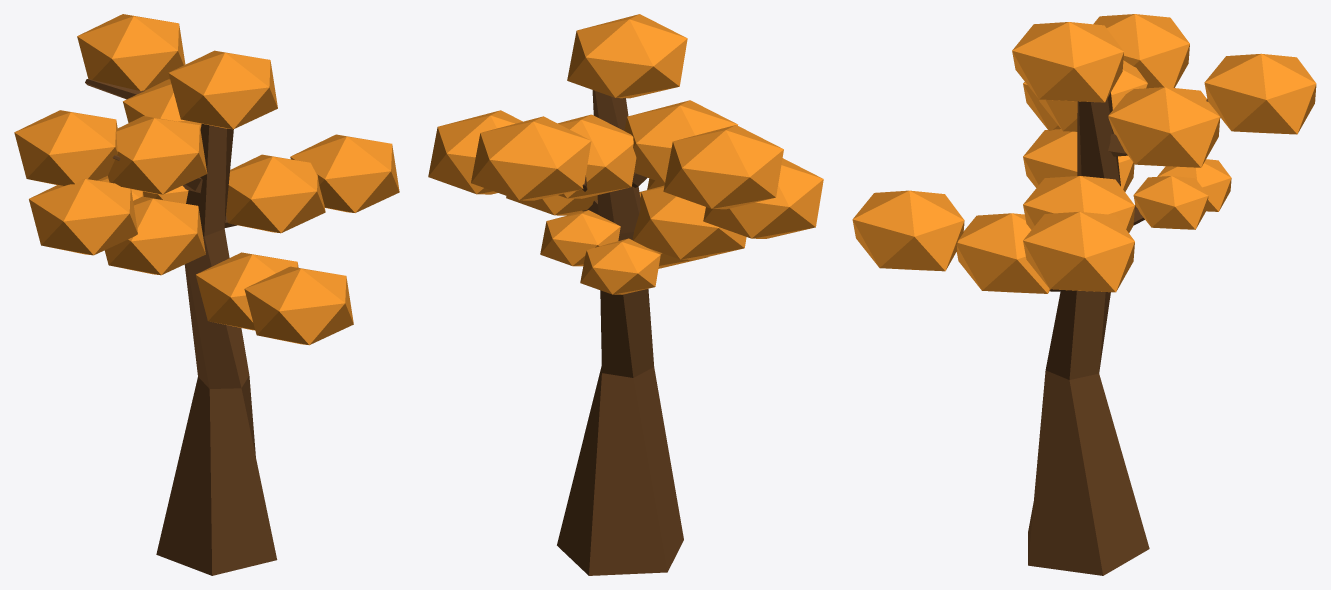
The model's file is tree_orange.fbx.
3 renders of one model, left to right at view 1: azimuth 30°, elevation 25°; view 2: azimuth 150°, elevation 25°; view 3: azimuth 270°, elevation 25°, orthographic. The views are drawn at different scales.
Visible parts, largest first — view 1: Tronc, Icosphere.004, Icosphere, Icosphere.008, Icosphere.003, Icosphere.009, Icosphere.005, Icosphere.010, Icosphere.006, Icosphere.007, Icosphere.001, Icosphere.002 (+1 smaller); view 2: Tronc, Icosphere.009, Icosphere.004, Icosphere.003, Icosphere.007, Icosphere.008, Icosphere.010, Icosphere.002, Icosphere.006, Icosphere.012, Icosphere.011, Icosphere.005; view 3: Tronc, Icosphere.006, Icosphere.003, Icosphere.004, Icosphere, Icosphere.002, Icosphere.001, Icosphere.009, Icosphere.005, Icosphere.011, Icosphere.007, Icosphere.010 (+2 smaller).
Boxes of the visible parts, x1,y1,x2,y2 form: Tronc: (156, 124, 277, 575); Icosphere.004: (168, 50, 277, 129); Icosphere: (244, 266, 353, 345); Icosphere.008: (29, 179, 137, 255); Icosphere.003: (77, 14, 185, 91); Icosphere.009: (14, 110, 117, 185); Icosphere.005: (226, 154, 325, 233); Icosphere.010: (108, 116, 207, 194); Icosphere.006: (290, 134, 399, 212); Icosphere.007: (104, 196, 205, 275); Icosphere.001: (196, 252, 298, 330); Icosphere.002: (123, 79, 201, 128); Tronc: (557, 90, 683, 575); Icosphere.009: (663, 125, 783, 209); Icosphere.004: (567, 14, 687, 98); Icosphere.003: (471, 116, 591, 200); Icosphere.007: (632, 186, 746, 259); Icosphere.008: (703, 158, 823, 238); Icosphere.010: (624, 100, 737, 183); Icosphere.002: (558, 114, 636, 198); Icosphere.006: (428, 110, 522, 194); Icosphere.012: (580, 238, 660, 294); Icosphere.011: (540, 210, 620, 266); Icosphere.005: (506, 195, 597, 215); Tronc: (1028, 92, 1149, 575); Icosphere.006: (1023, 211, 1134, 292); Icosphere.003: (1204, 53, 1316, 134); Icosphere.004: (1012, 22, 1123, 102); Icosphere: (852, 190, 964, 271); Icosphere.002: (1108, 87, 1220, 167); Icosphere.001: (956, 213, 1050, 293); Icosphere.009: (1093, 14, 1189, 88); Icosphere.005: (1023, 176, 1134, 232); Icosphere.011: (1133, 176, 1208, 229); Icosphere.007: (1023, 129, 1134, 191); Icosphere.010: (1039, 60, 1147, 131).
Size of the model in its own units: 377 by 508 by 405.
Materials: 1 (1 with a texture image).
